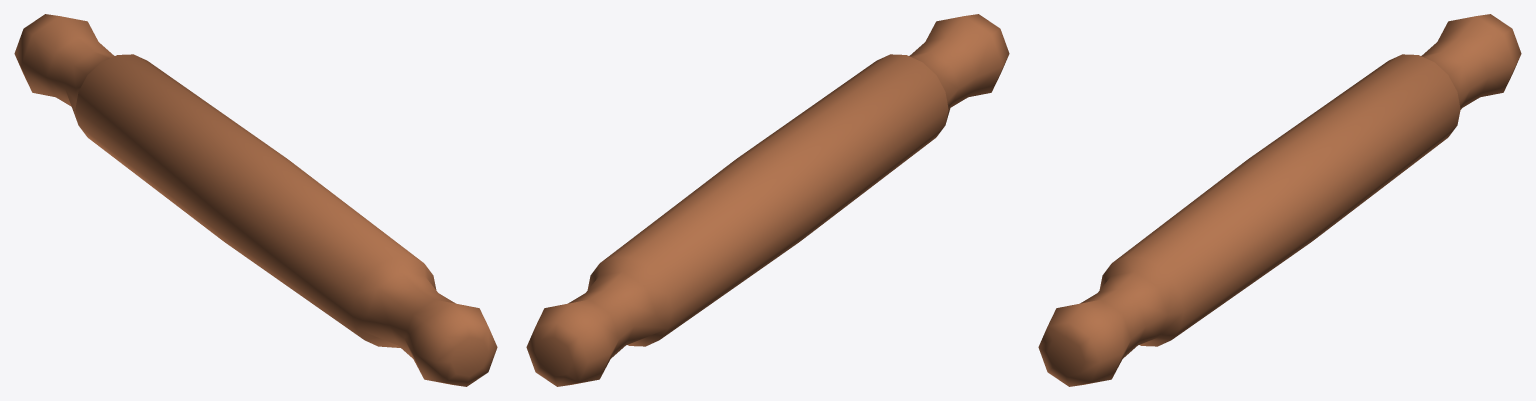
The model's file is rolling pin.fbx.
3 views of the same model, side by side, from view 1: azimuth 30°, elevation 25°; view 2: azimuth 150°, elevation 25°; view 3: azimuth 330°, elevation 25° (orthographic).
Visible parts, largest first — view 1: rolling pin; view 2: rolling pin; view 3: rolling pin.
Boxes of the visible parts, x1,y1,x2,y2 form: rolling pin: (14,14,497,386); rolling pin: (526,14,1009,386); rolling pin: (1038,14,1521,386).
Bounding box in the file's own units: 1.92 × 15.74 × 1.92.
